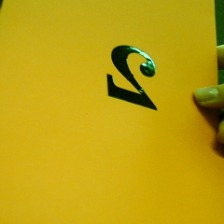orange2: (94, 39, 163, 115)
